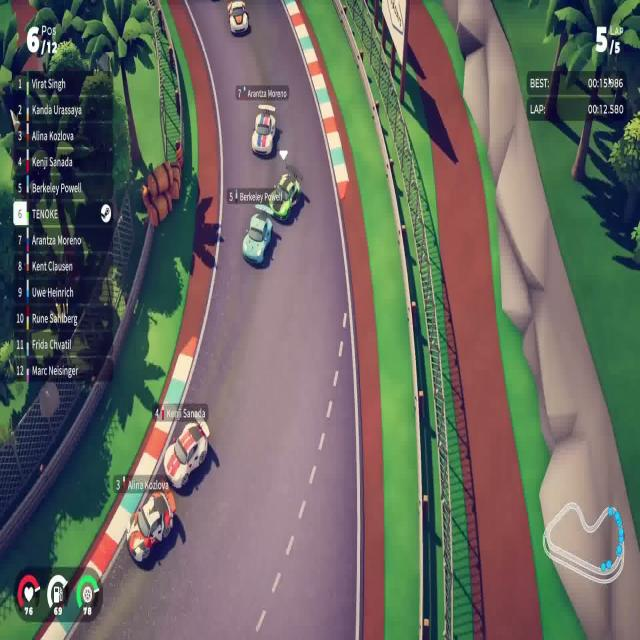car: (126, 480, 176, 564), (163, 418, 210, 489), (267, 163, 304, 222), (241, 210, 273, 267), (250, 103, 277, 157)
